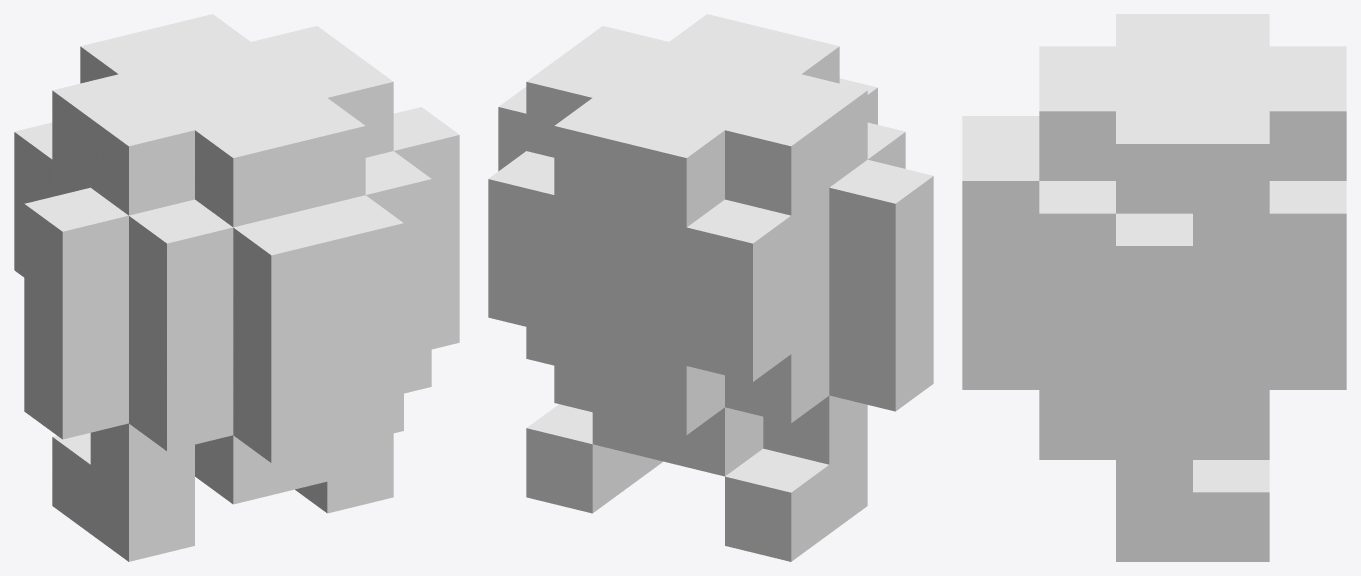
File: enemy.gltf
3 renders of one model, left to right at view 1: azimuth 30°, elevation 25°; view 2: azimuth 150°, elevation 25°; view 3: azimuth 270°, elevation 25°, orthographic.
Parts seen in each view (by area): view 1: Layer.1; view 2: Layer.1; view 3: Layer.1.
Boxes of the visible parts, x1,y1,x2,y2 form: Layer.1: (14, 14, 459, 561); Layer.1: (488, 14, 933, 561); Layer.1: (962, 14, 1346, 561).
Size of the model in its own units: 6 by 6 by 5.
1 material, 1 textured.
